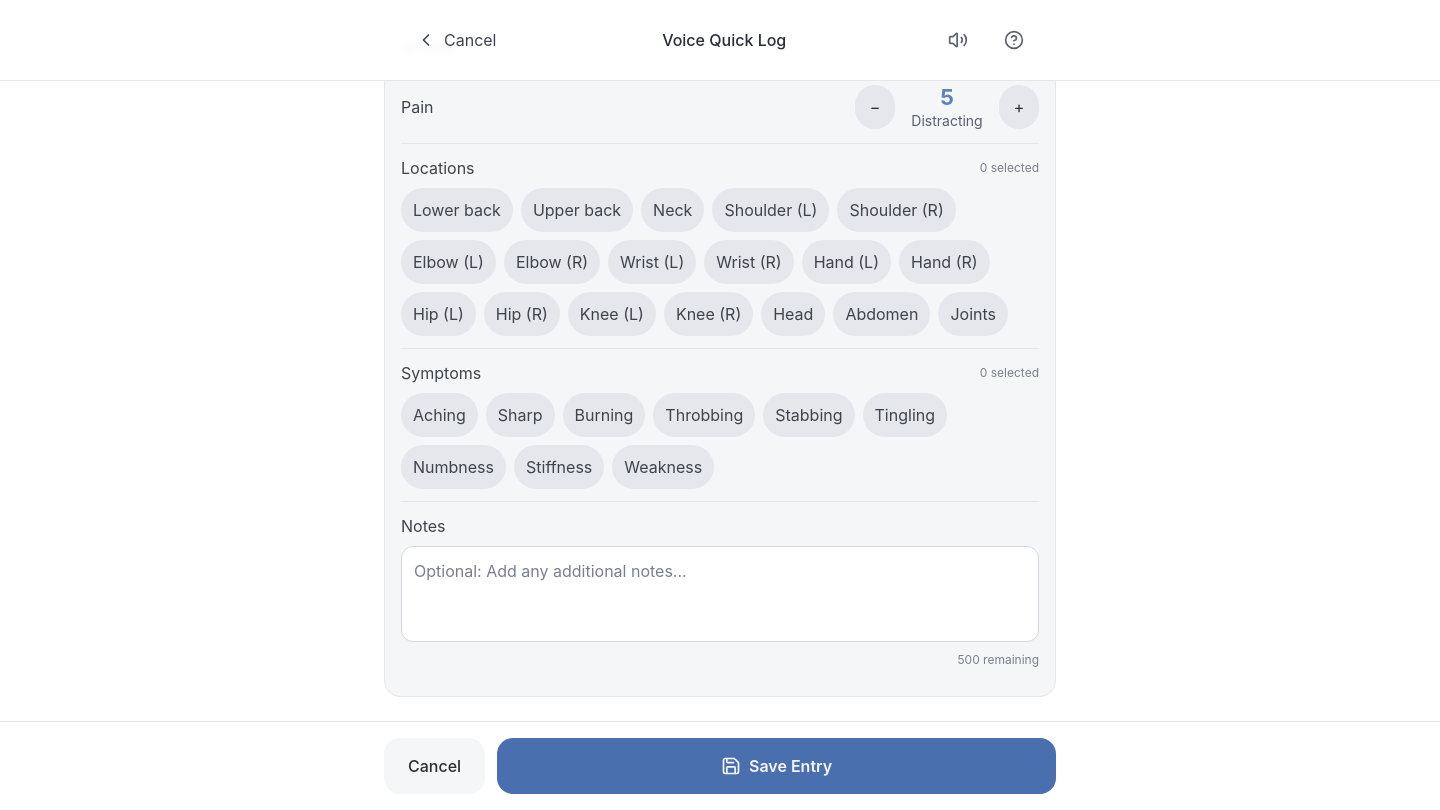
Test: VoiceFirstQuickLog › Notes Input › shows remaining character count
(page scrolled)
Type "Test" into the text box labelled "Notes" at (720, 594), box [401,546,1039,642]
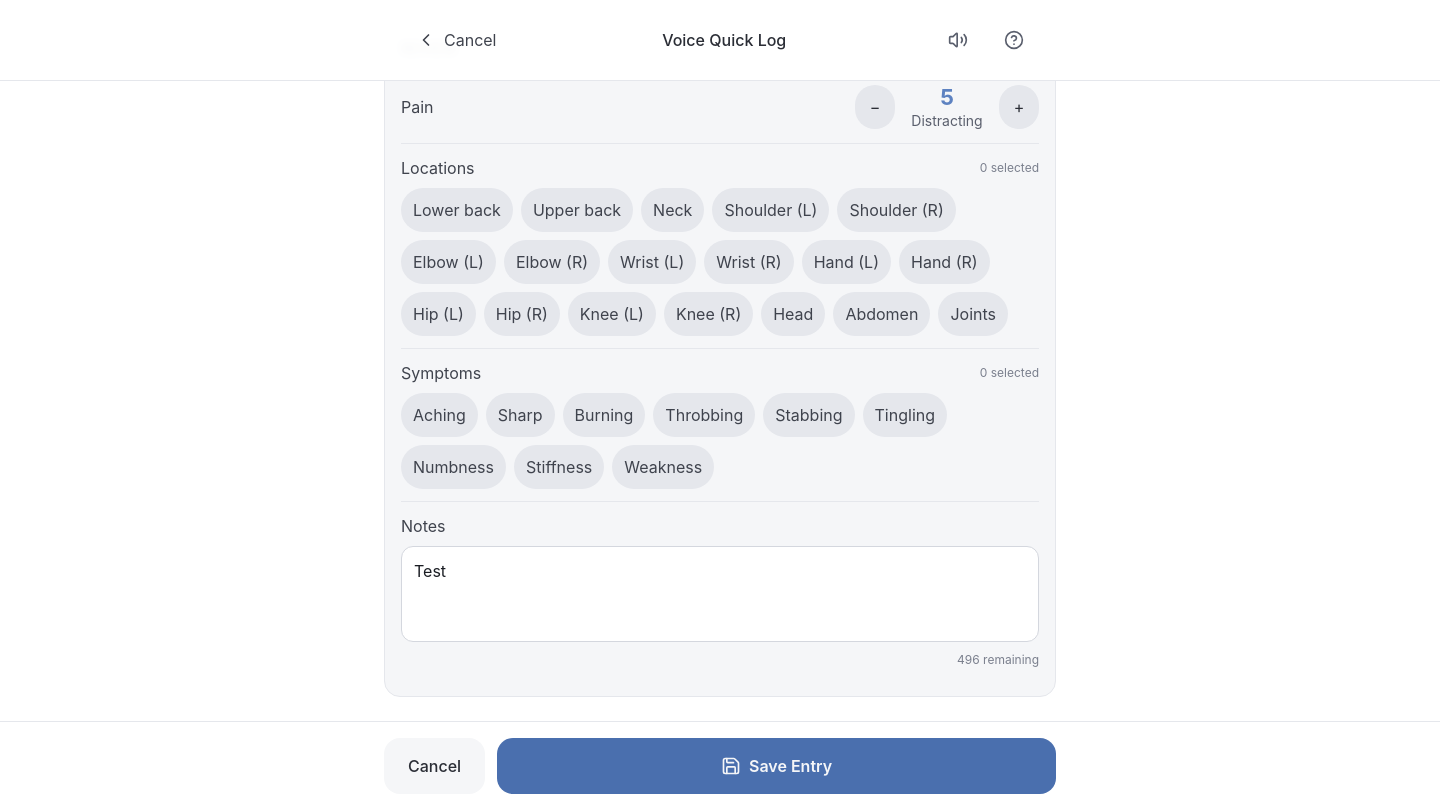
Expected: the text "496 remaining" is shown, [957,652,1039,668]
